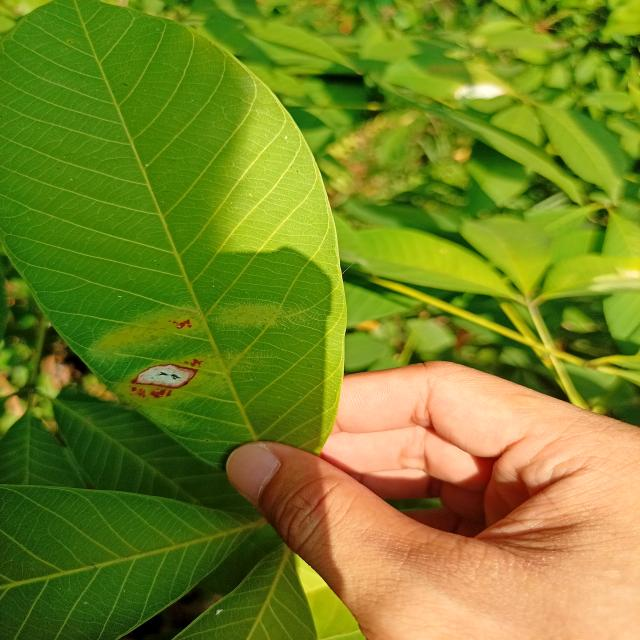Leaf-Blight: (131, 363, 203, 389)
